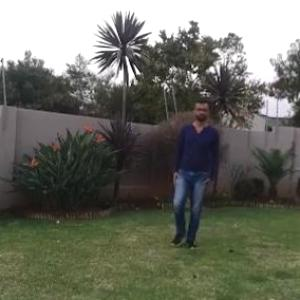follow: (171, 102, 212, 241)
